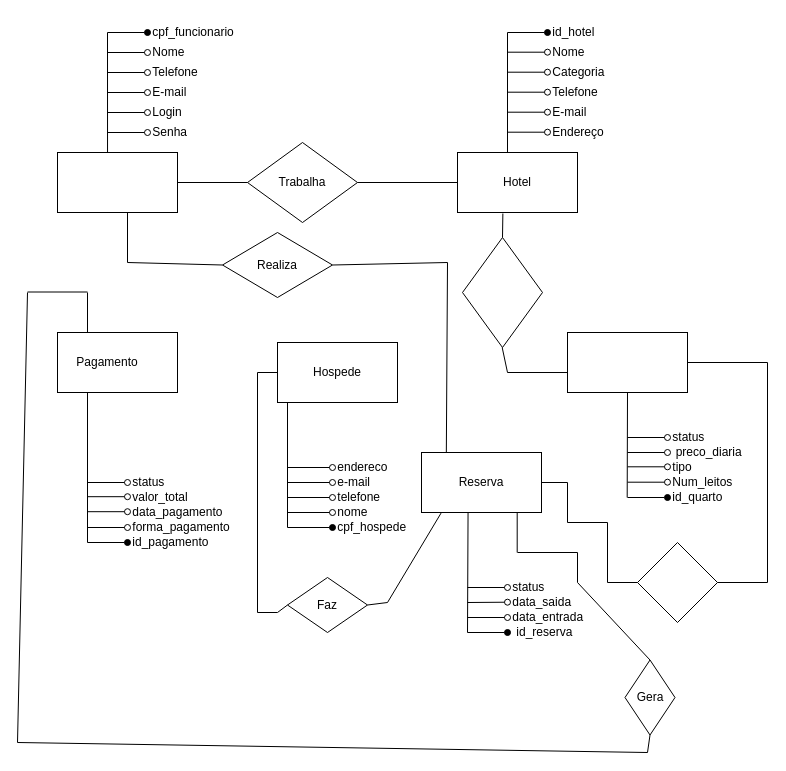
Some shapes in this 786 by 771 pixel diagram are drawn without their labels. The shapes that lost their labels are listed below. From the top down, each one's centre as x and y in pixels, then its label:
(x=117, y=182): Funcionário
(x=502, y=292): Possui
(x=627, y=362): Quarto
(x=677, y=582): Faz parte
